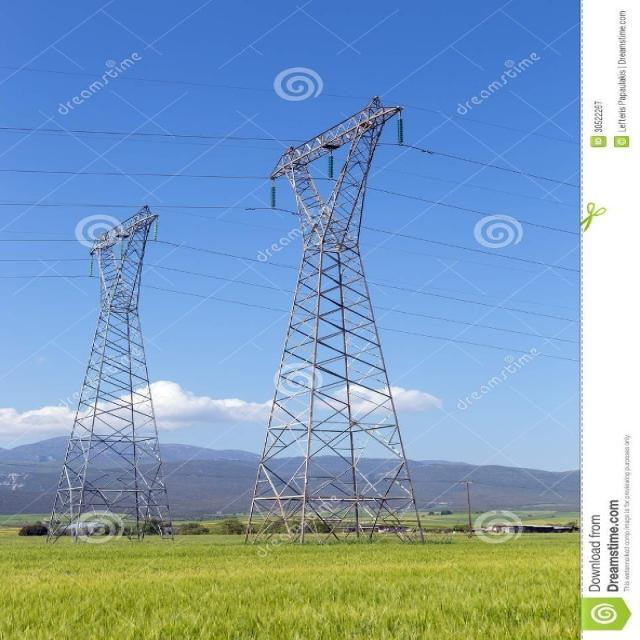non-critical vegetation: (246, 111, 416, 527), (45, 207, 184, 521)
